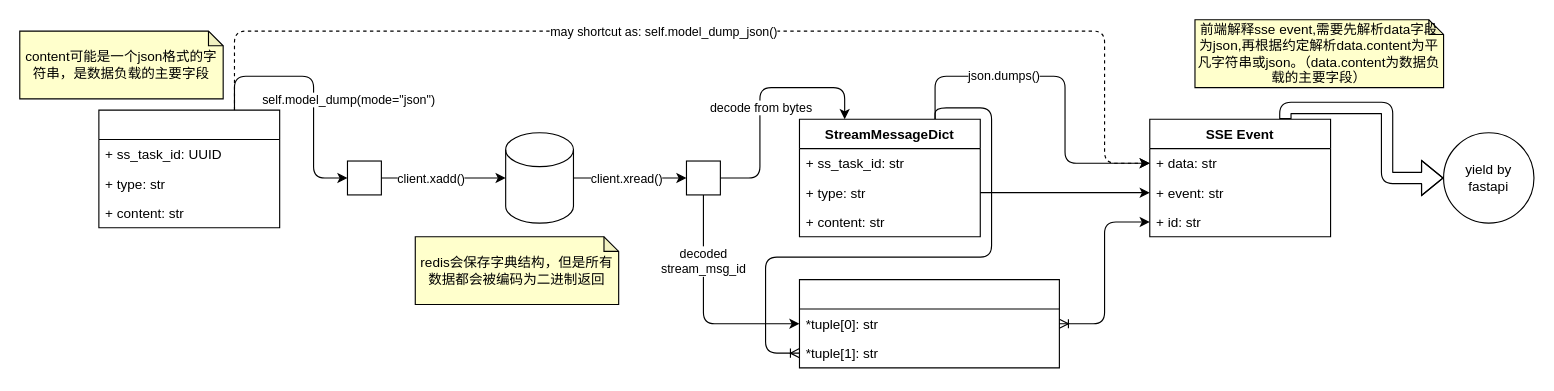
This 1554x391 diagram has some shape labels left out. Here are the shapes that lost their labels. From the top down, the box of each, then its label:
(98, 109, 280, 228): StreamingMessage
(505, 132, 573, 223): Redis stream
(798, 279, 1059, 368): list[tuple[str, StreamMessageDict ]]
